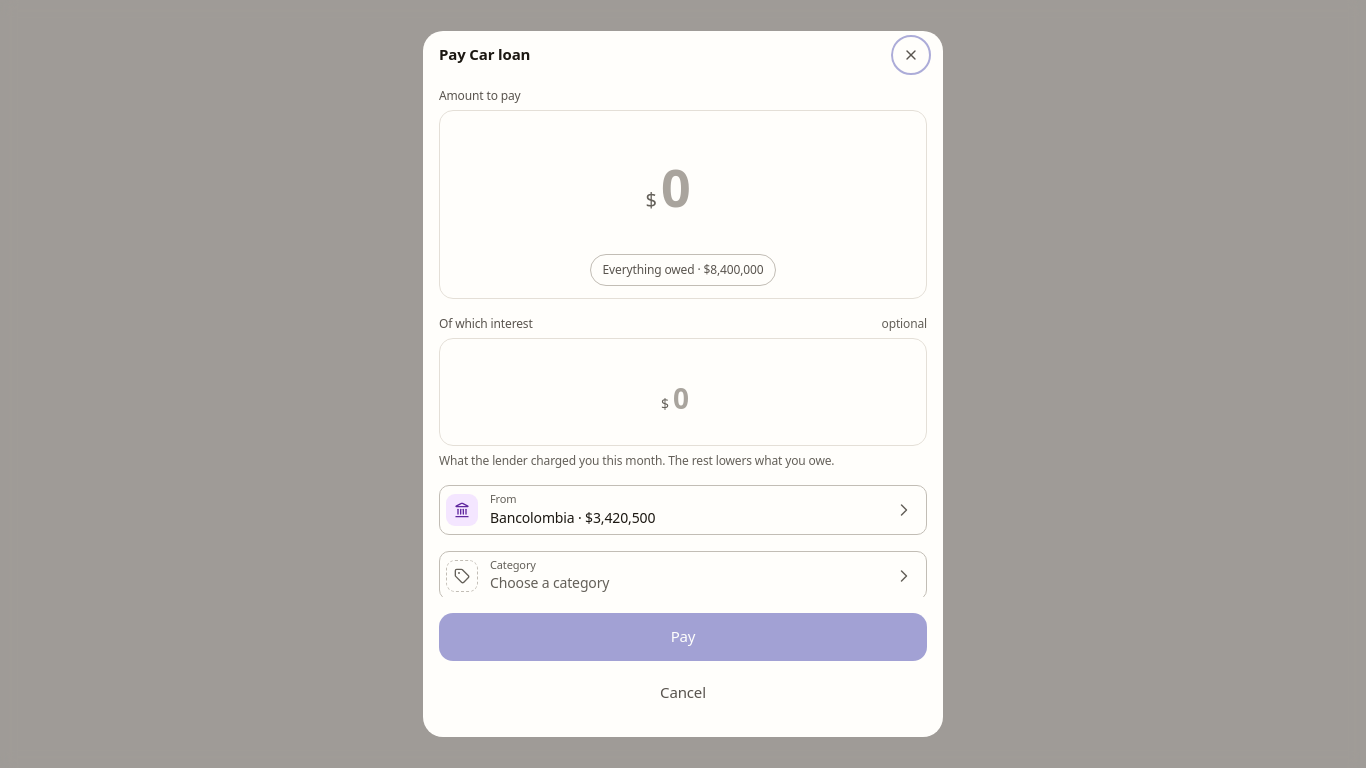
Test: the instalment split (T-94) › caps the principal, not the instalment: interest may take it past what is owed
Type "8500000" into the field labelled "Amount to pay" at (691, 186), box [661,151,720,222]
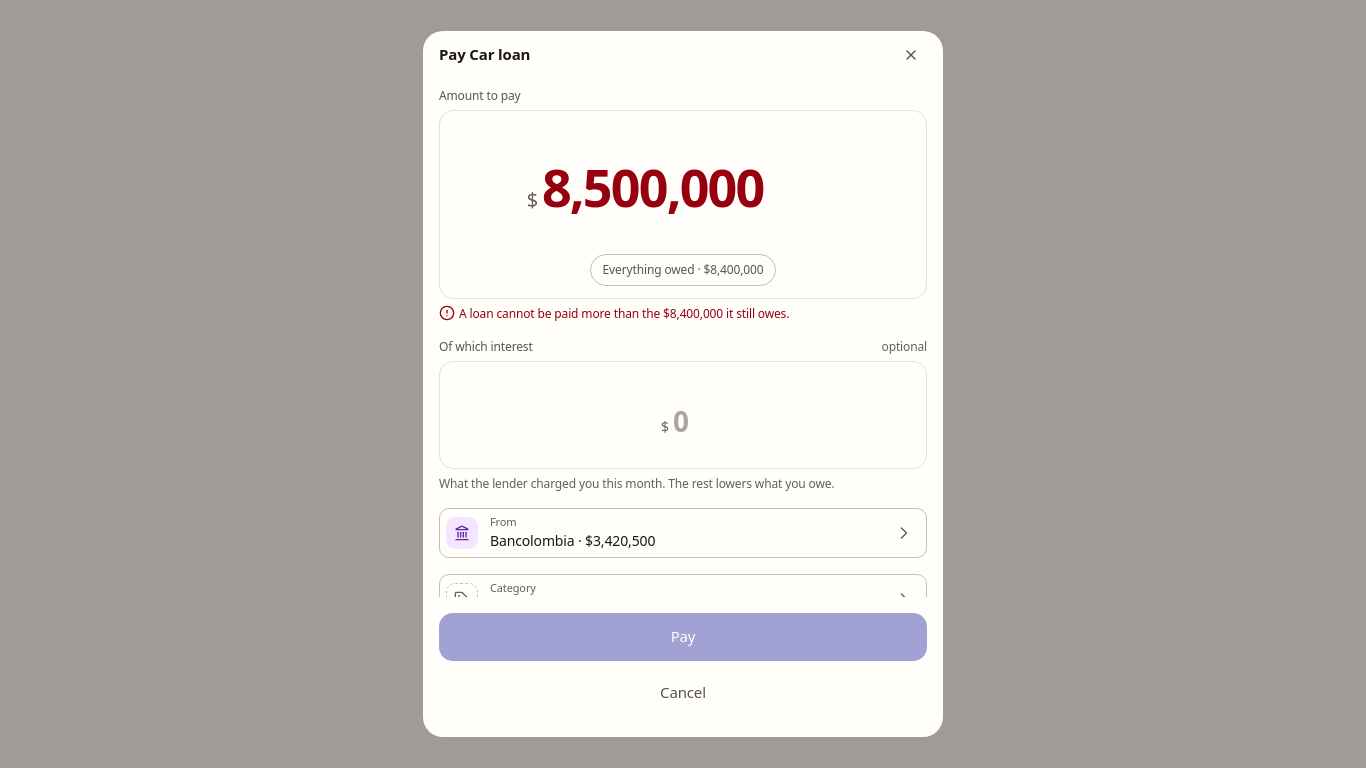
Expected: the text "A loan cannot be paid more than the $8,400,000 it still owes." is shown, [439,305,789,322]
Type "200000" into the field labelled "Of which interest" at (689, 421), box [673,402,705,440]
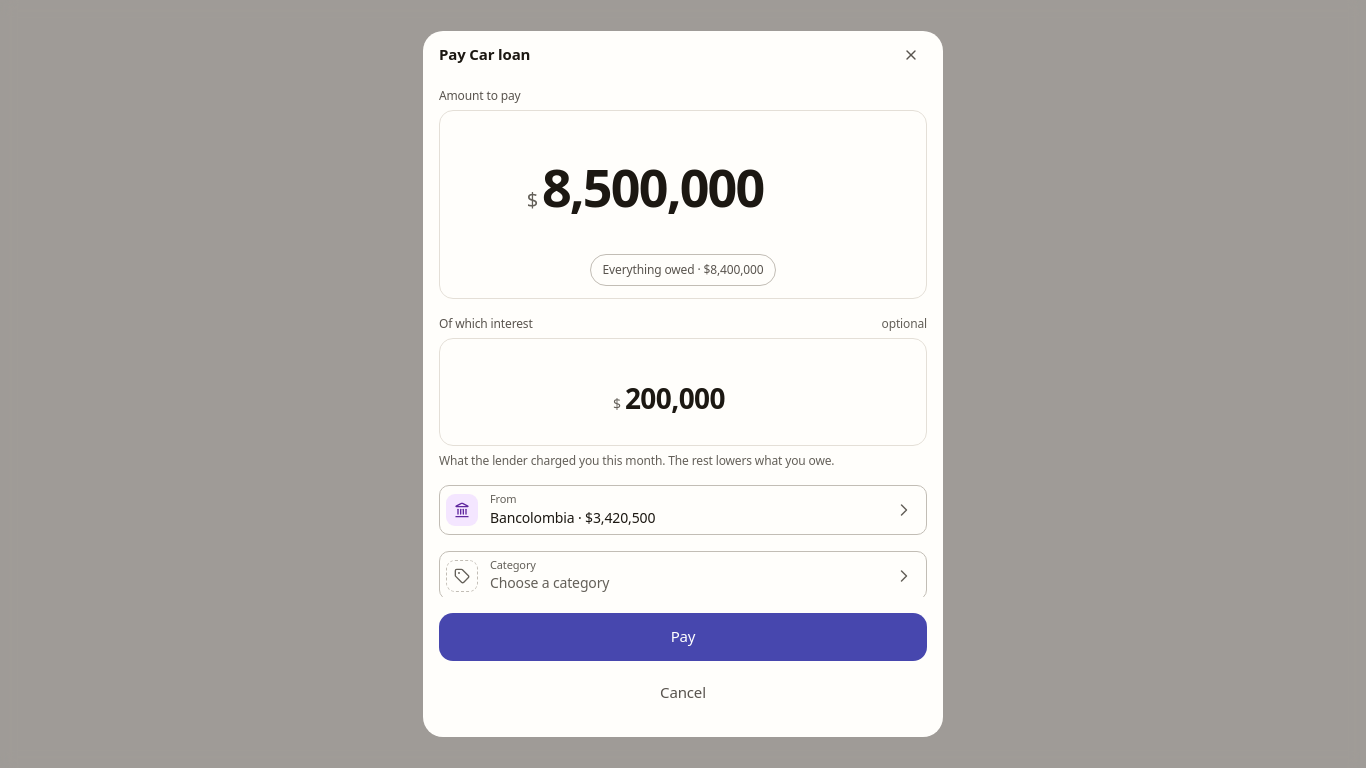
Expected: the text "cannot be paid more than" is gone
Expected: the 1st button named "Pay" is enabled, [439,613,927,661]
